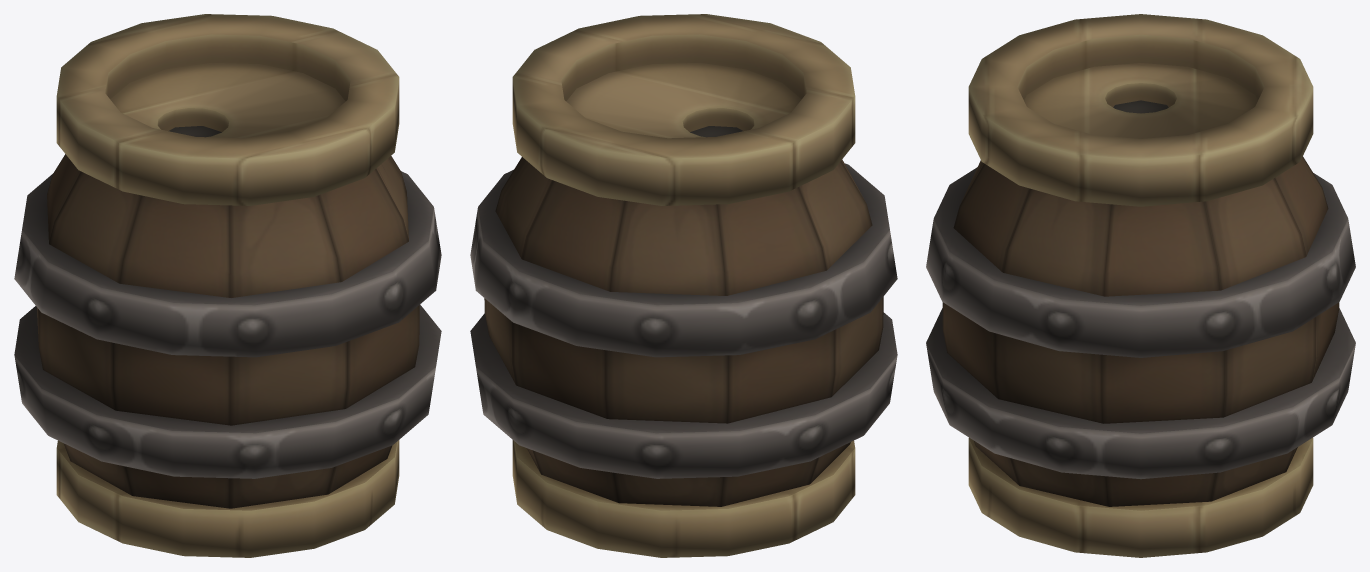
File: barrel_01.fbx
The picture shows the model from 3 angles, left to right: view 1: azimuth 30°, elevation 25°; view 2: azimuth 150°, elevation 25°; view 3: azimuth 270°, elevation 25°; orthographic projection.
Visible parts, largest first — view 1: barrel_01; view 2: barrel_01; view 3: barrel_01.
Boxes of the visible parts, x1=… form: barrel_01: x1=14, y1=14, x2=441, y2=557; barrel_01: x1=470, y1=14, x2=897, y2=557; barrel_01: x1=926, y1=14, x2=1355, y2=557.
Bounding box in the file's own units: 53.03 × 53.03 × 54.21.
1 material, 1 textured.
